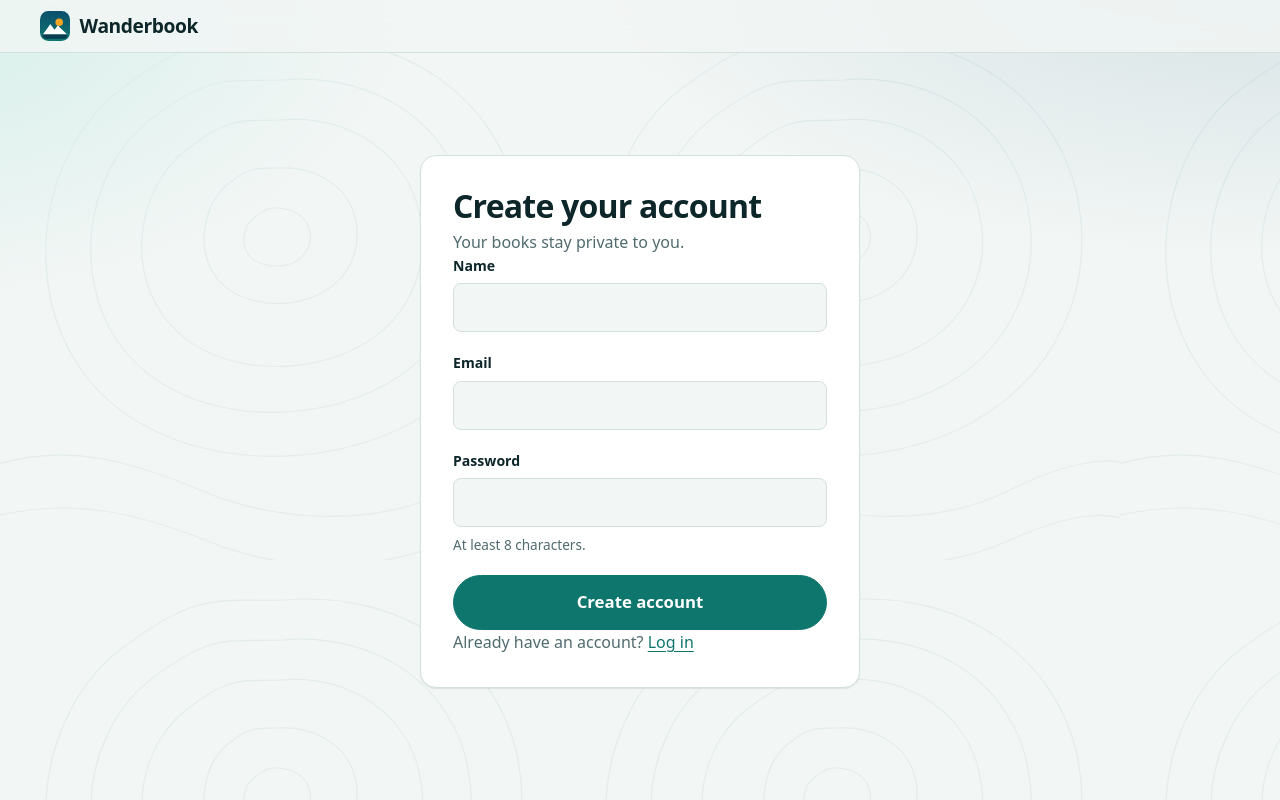
Test case: logged out › catches a short password before sending anything
This screenshot has width=1280, height=800.
Expected: the heading "Create your account" is shown, top-left (453, 184), bottom-right (761, 227)
Type "Asha" into the field labelled "Name".
click(640, 308); type("Asha")  # box top-left (453, 283), bottom-right (827, 332)
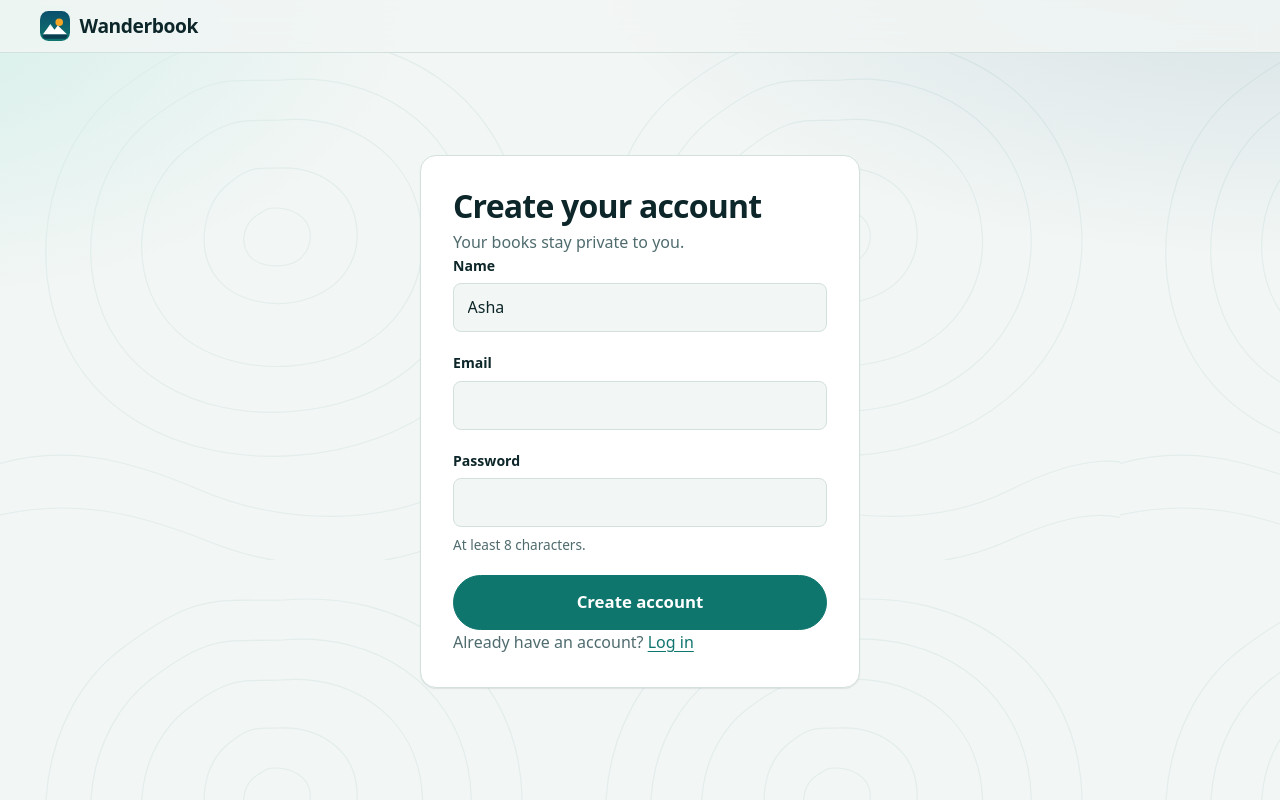
Type "asha@example.com" into the field labelled "Email".
click(640, 405); type("asha@example.com")  # box top-left (453, 381), bottom-right (827, 430)
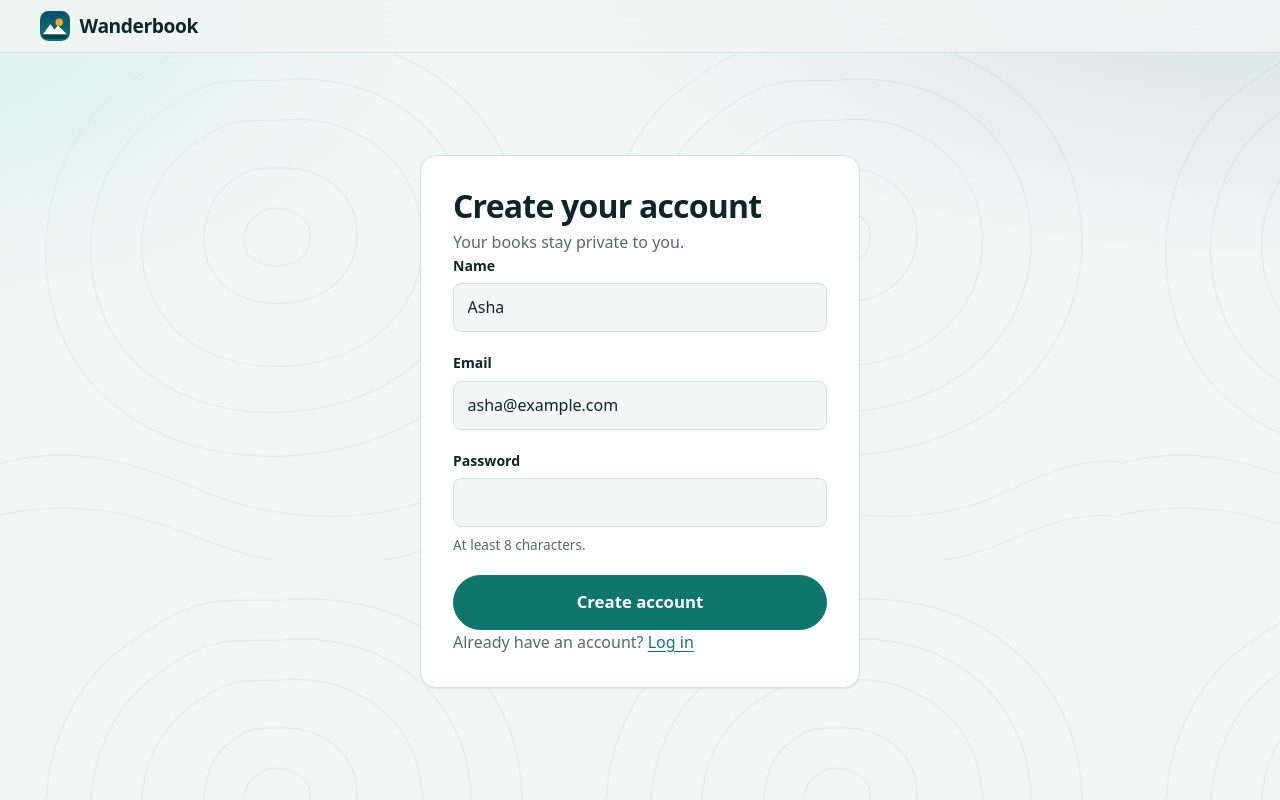
Type "short" into the password field labelled "Password".
click(640, 503); type("short")  # box top-left (453, 478), bottom-right (827, 527)
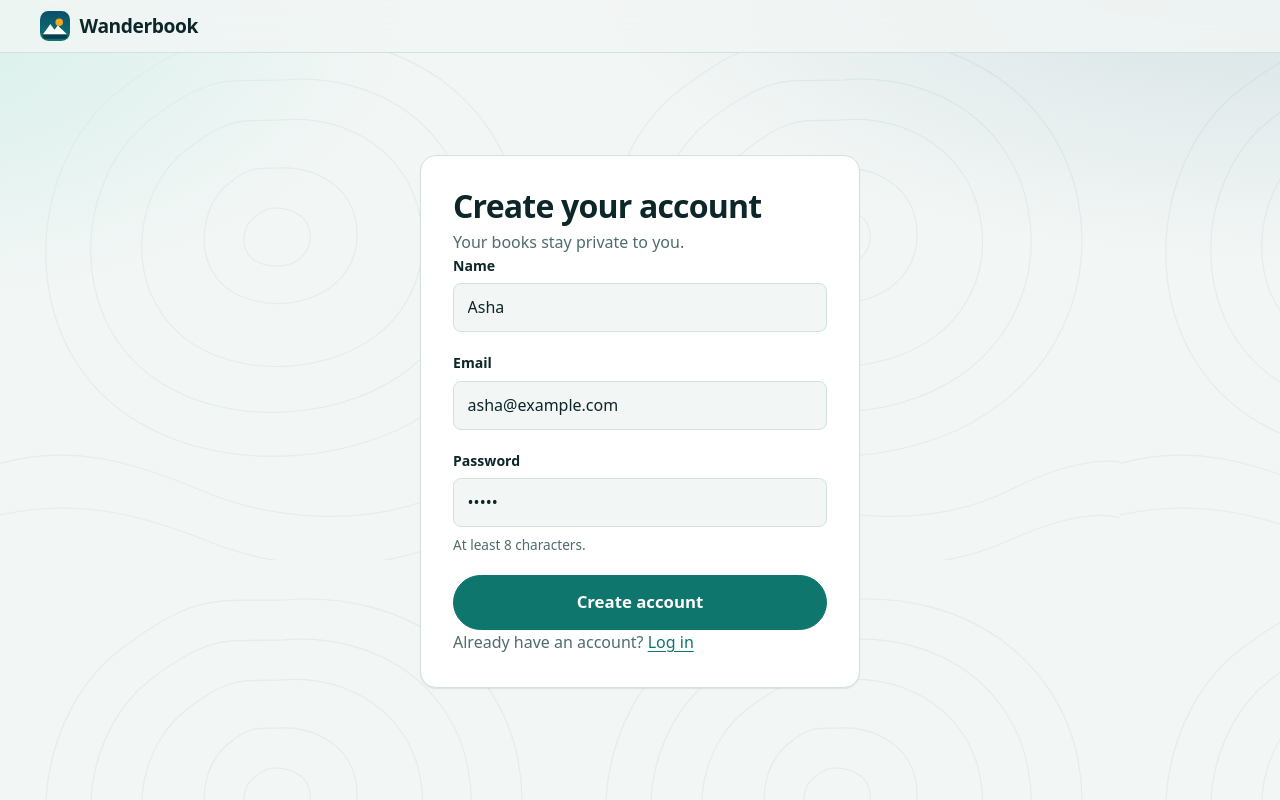
Click the button "Create account".
click(640, 602)  # box top-left (453, 575), bottom-right (827, 630)
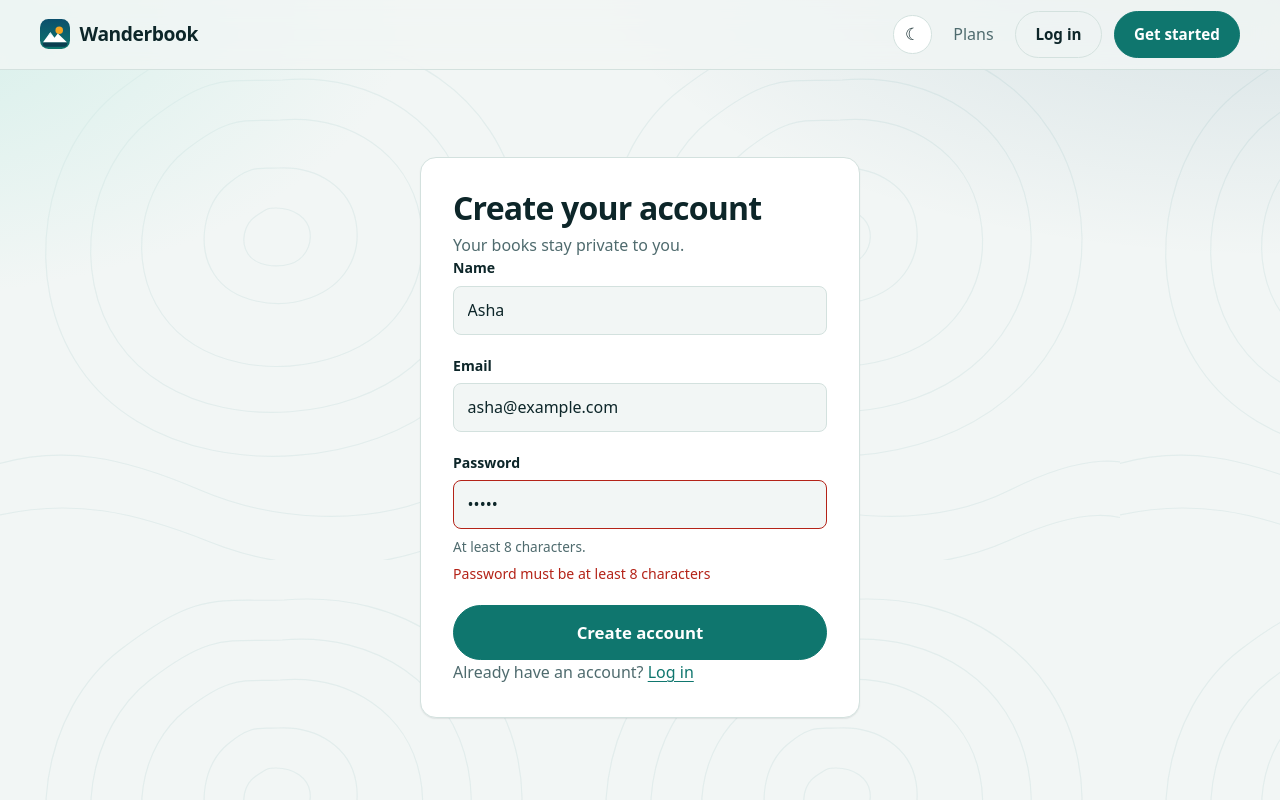
Result: the text "Password must be at least 8 characters" is shown at top-left (453, 564), bottom-right (710, 583)
